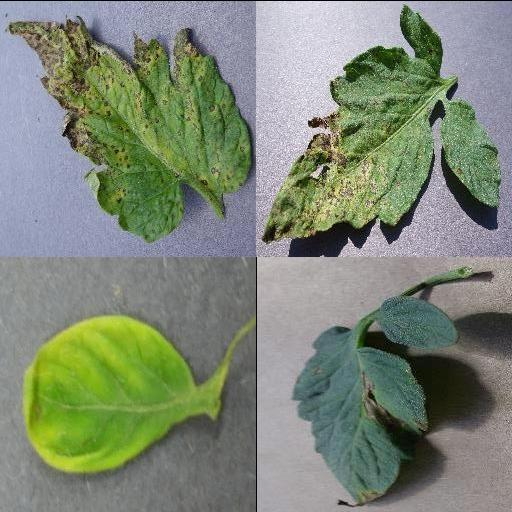Early Blight: (289, 327, 429, 505)
Healthy: (377, 293, 457, 349)
Septoria: (8, 14, 250, 242), (260, 3, 444, 243)
Yellow Leaf Curl Virus: (23, 316, 195, 474)
